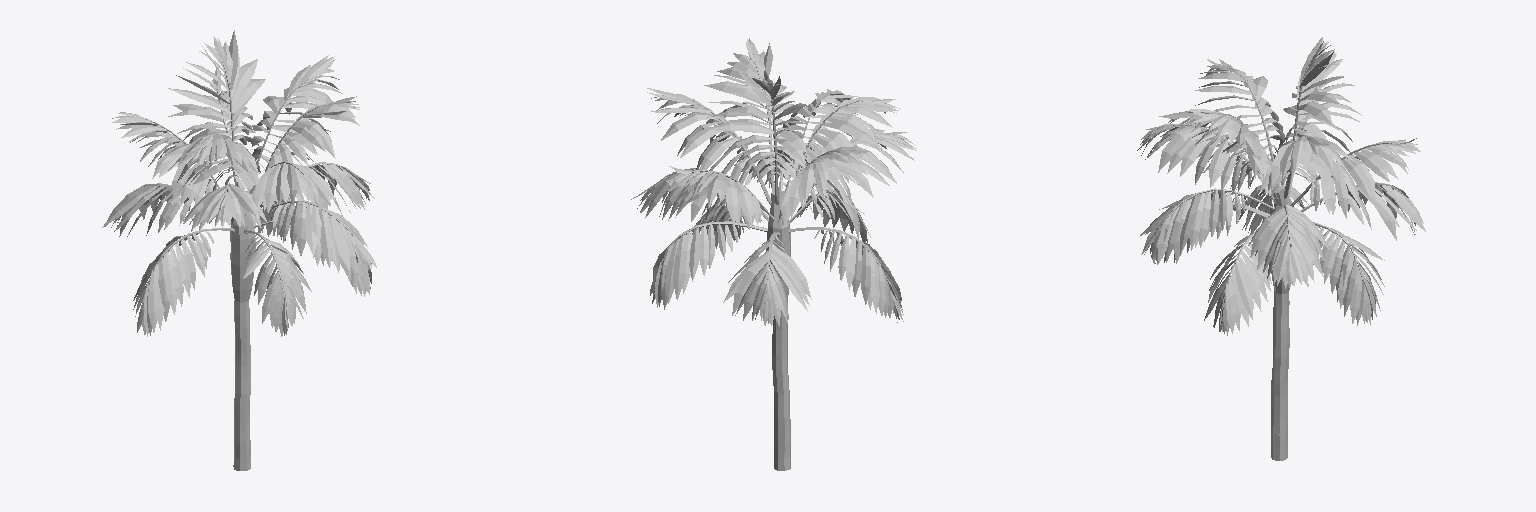
Rendered from TestSpeedTree2.obj.
The picture shows the model from 3 angles: view 1: azimuth 30°, elevation 25°; view 2: azimuth 150°, elevation 25°; view 3: azimuth 270°, elevation 25°; orthographic projection.
Parts seen in each view (by area): view 1: TestSpeedTree2SG; view 2: TestSpeedTree2SG; view 3: TestSpeedTree2SG.
Boxes of the visible parts, x1=… form: TestSpeedTree2SG: x1=102, y1=30, x2=376, y2=470; TestSpeedTree2SG: x1=631, y1=38, x2=916, y2=470; TestSpeedTree2SG: x1=1137, y1=37, x2=1425, y2=460.
Size of the model in its own units: 19.76 by 30.86 by 19.68.